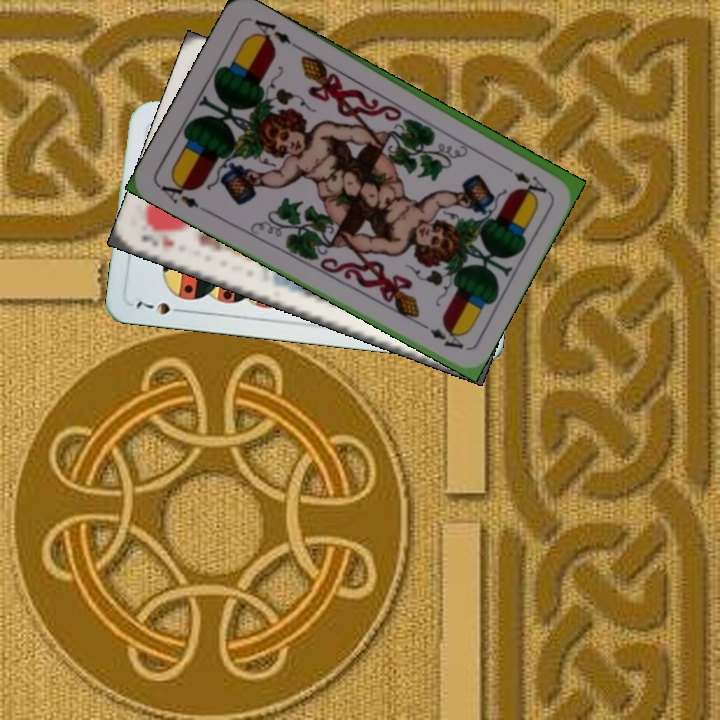EA: (154, 174, 209, 215), (497, 160, 550, 196)
HK: (136, 230, 177, 251)
S7: (132, 297, 189, 317)
